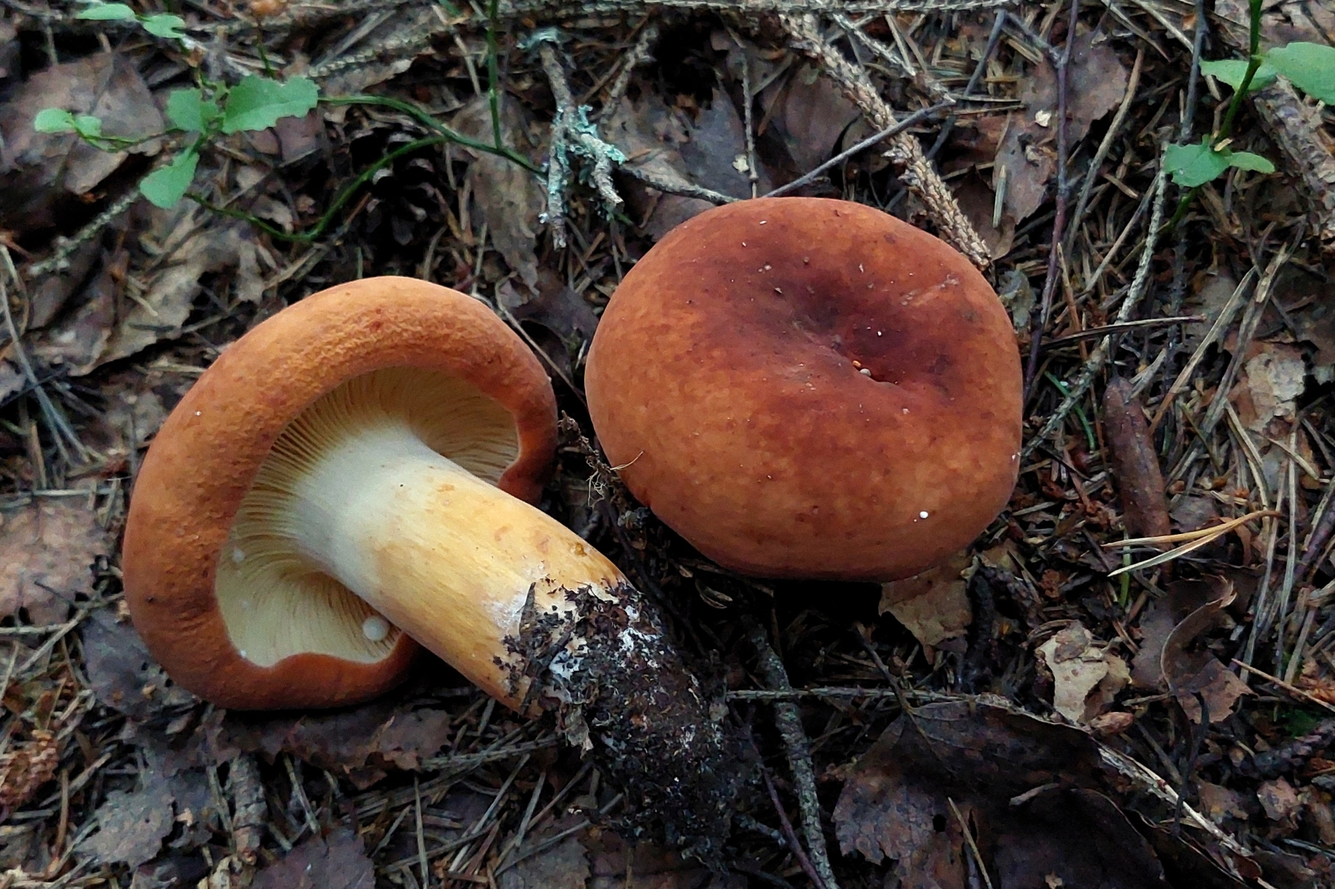Cap: (122, 276, 555, 709), (585, 197, 1022, 581)
Stem: (248, 421, 623, 706)
Underside: (215, 368, 519, 666)
